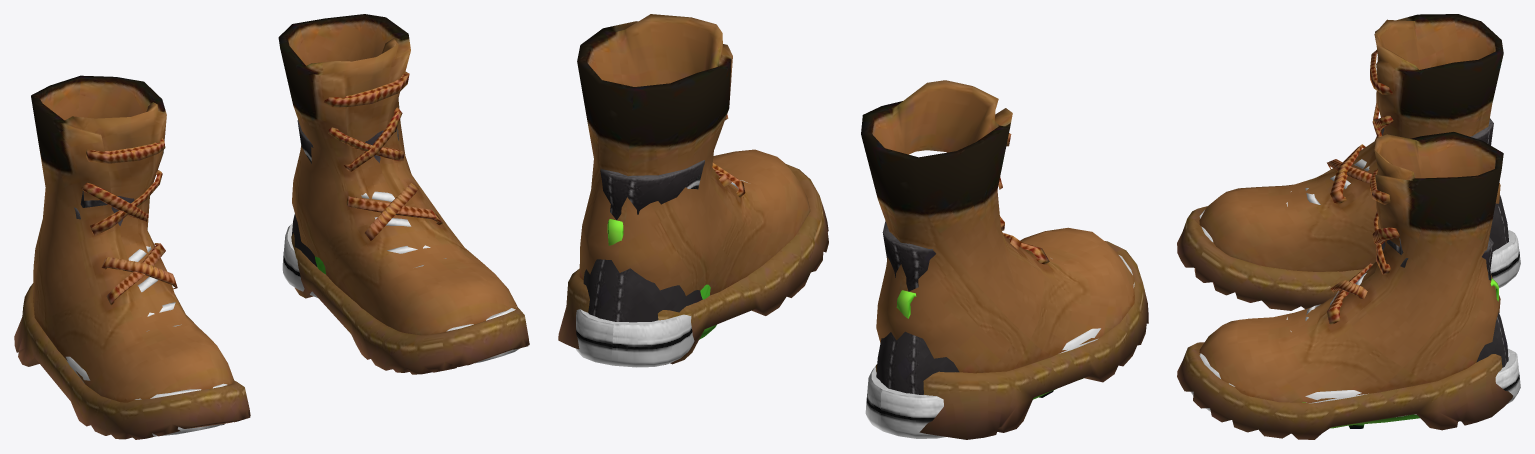
The model's file is Shoes3_Men.glb.
3 renders of one model, left to right at view 1: azimuth 30°, elevation 25°; view 2: azimuth 150°, elevation 25°; view 3: azimuth 270°, elevation 25°, orthographic. The views are drawn at different scales.
Parts seen in each view (by area): view 1: Wolf3D_Outfit_Footwear.001, Wolf3D_Outfit_Footwear.002; view 2: Wolf3D_Outfit_Footwear.001, Wolf3D_Outfit_Footwear.002, Wolf3D_Outfit_Footwear; view 3: Wolf3D_Outfit_Footwear.001, Wolf3D_Outfit_Footwear.002, Wolf3D_Outfit_Footwear.
Part boxes in pixels (box(x1,y1,x2,y2)): Wolf3D_Outfit_Footwear.001: box(14, 14, 529, 439); Wolf3D_Outfit_Footwear.002: box(66, 120, 519, 436); Wolf3D_Outfit_Footwear.001: box(558, 14, 1148, 439); Wolf3D_Outfit_Footwear.002: box(576, 160, 1134, 438); Wolf3D_Outfit_Footwear: box(607, 219, 1082, 399); Wolf3D_Outfit_Footwear.001: box(1177, 14, 1513, 439); Wolf3D_Outfit_Footwear.002: box(1190, 118, 1520, 417); Wolf3D_Outfit_Footwear: box(1302, 278, 1498, 428).
Size of the model in its own units: 0.483 by 0.3007 by 0.3599.
3 materials, 3 textured.
